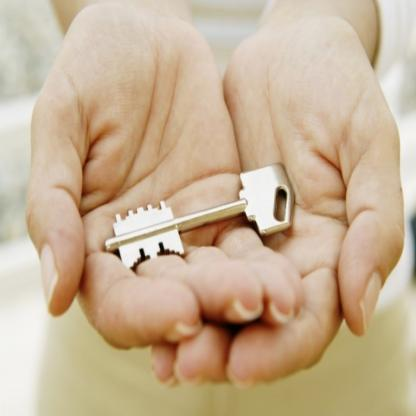keys: (102, 160, 298, 274)
